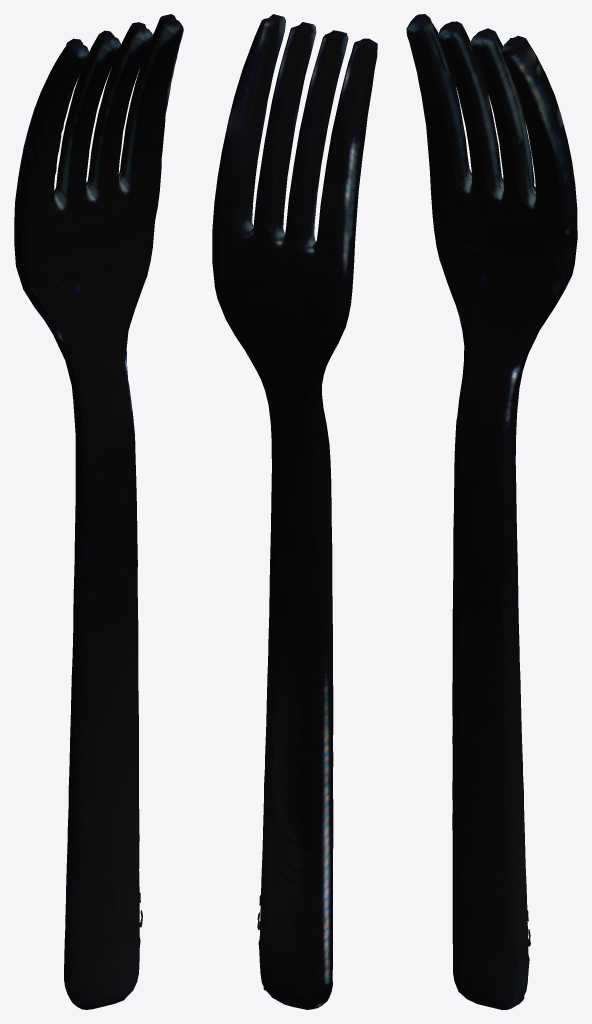
Rendered from Scan.obj.
The picture shows the model from 3 angles, left to right: view 1: azimuth 30°, elevation 25°; view 2: azimuth 150°, elevation 25°; view 3: azimuth 330°, elevation 25°; orthographic projection. The views are drawn at different scales.
Parts seen in each view (by area): view 1: Scan.013; view 2: Scan.013; view 3: Scan.013.
Boxes of the visible parts, x1,y1,x2,y2 form: Scan.013: (14,14,183,1009); Scan.013: (212,14,377,1009); Scan.013: (406,14,577,1009).
Bounding box in the file's own units: 0.0238 × 0.1596 × 0.016.
Materials: 1 (1 with a texture image).
